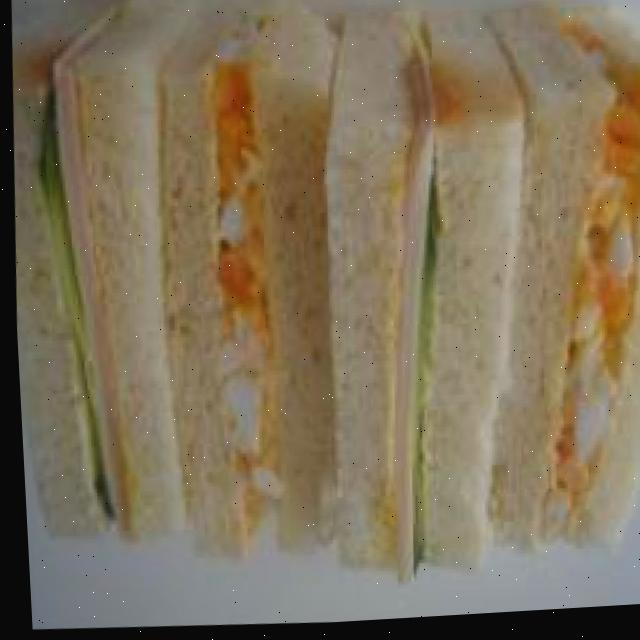三明治: (0, 0, 640, 612)
